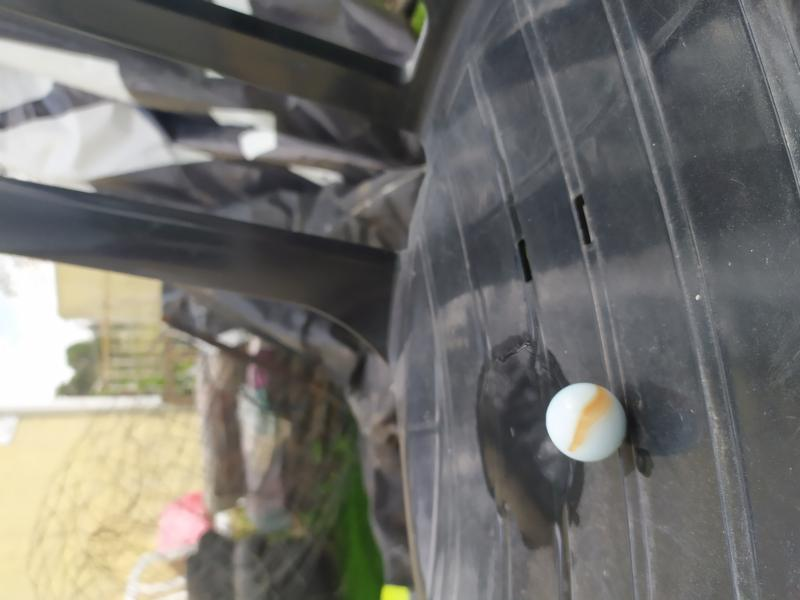Warning: (542, 380, 631, 465)
